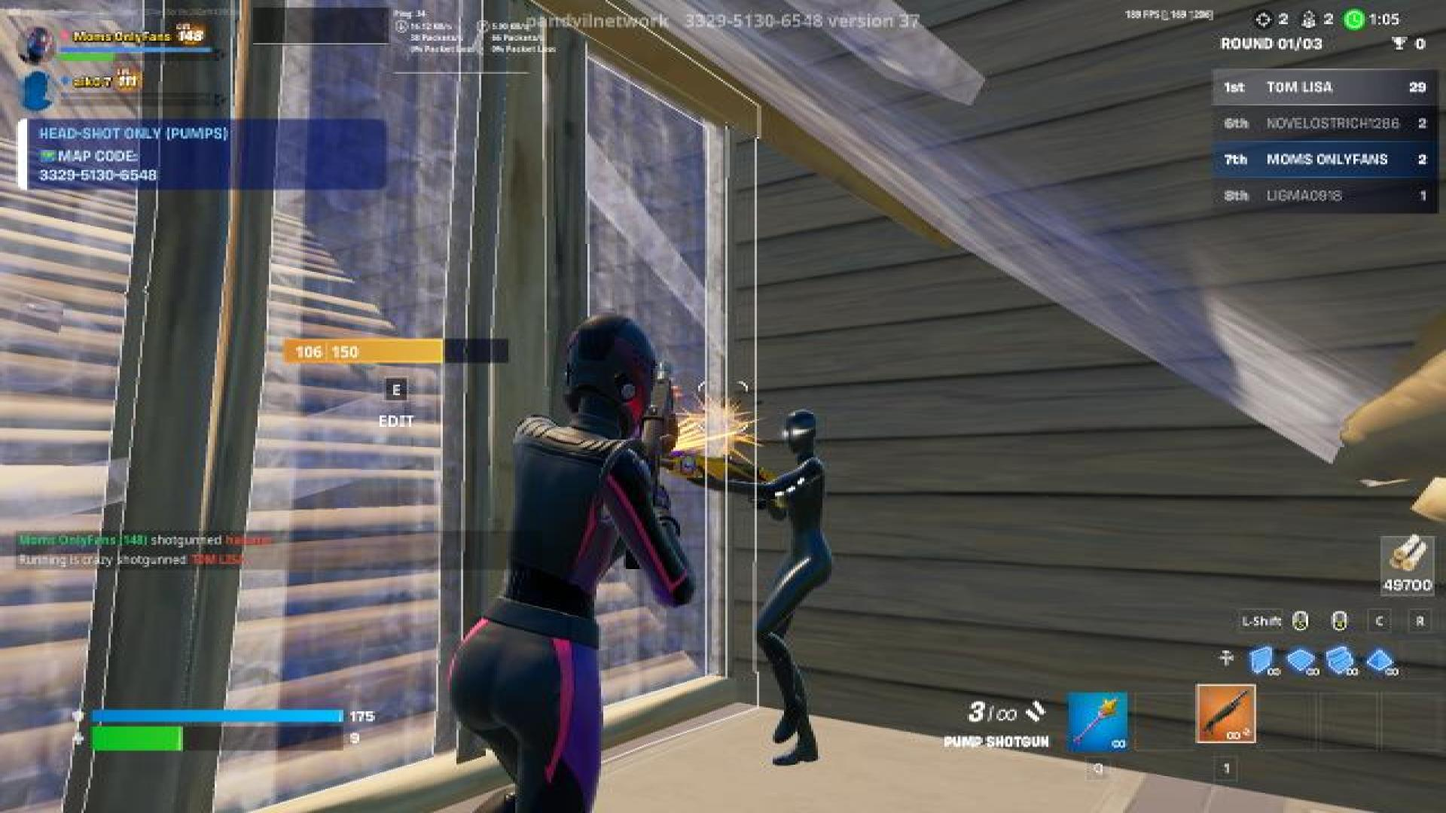player: (743, 399, 854, 786)
